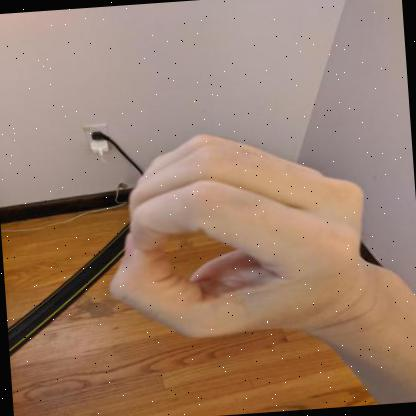O: (109, 134, 379, 339)
